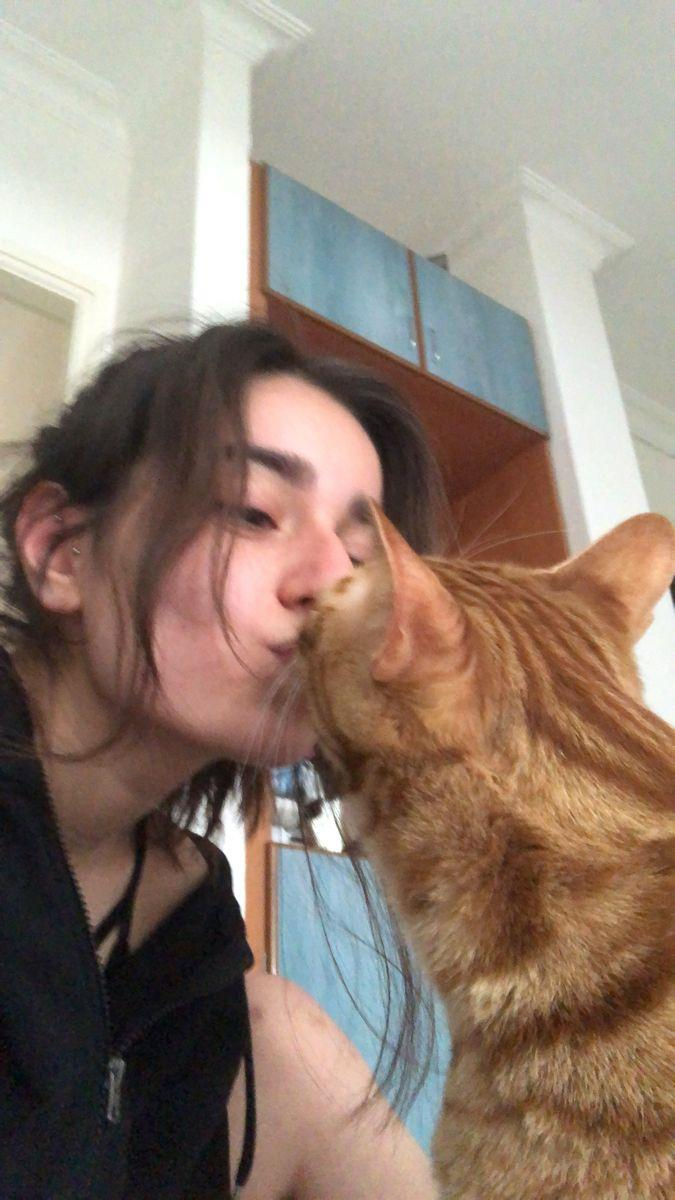kedo: (295, 490, 675, 1198)
